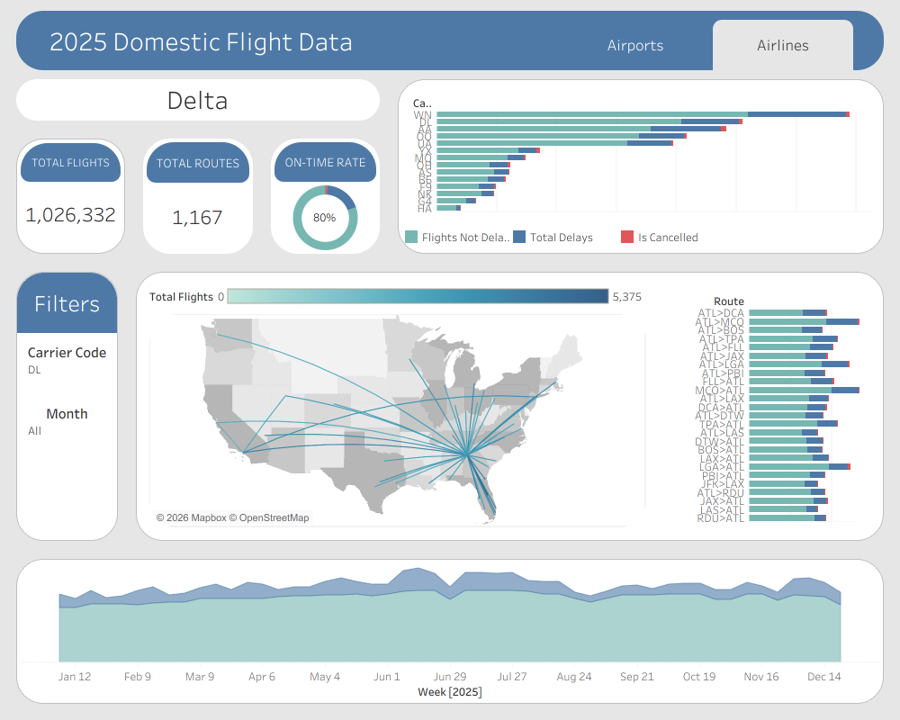

The page's visual inventory and layout, read from the dashboard file:
{"tool":"tableau","page":{"name":"Airline/Routes","canvas":[1000,800],"ordinal":0},"visuals":[{"type":"text","box":[18,12,606,66]},{"type":"dashboard-object","box":[624,12,164,66]},{"type":"dashboard-object","box":[788,12,164,66]},{"type":"worksheet","title":"Airline Code","mark":"Automatic","box":[8,78,424,66]},{"type":"worksheet","title":"Airline Reliability","mark":"Automatic","rows":["carrier_code"],"box":[443,89,538,160]},{"type":"text","box":[159.3,154,121.3,49]},{"type":"text","box":[300.7,154,121.3,48]},{"type":"text","box":[19,155,119.3,47]},{"type":"worksheet","title":"Total Flights Airline","mark":"Automatic","box":[19,202,119.3,79]},{"type":"worksheet","title":"Airline Gauge","mark":"Pie","cols":["Calculation_1108326014488583","Calculation_1108326014496777"],"box":[300.7,202,121.3,80]},{"type":"worksheet","title":"Total Routes Airline","mark":"Automatic","box":[159.3,203,121.3,79]},{"type":"legend","title":"Top Routes","param":"[federated.1rw0wj514wbz2k1dyeug803rc4i3].[:Measure Names]","box":[443,249,538,32]},{"type":"text","box":[19,303,111,67]},{"type":"worksheet","title":"Top Routes","mark":"Bar","rows":["Calculation_1108324908216320"],"box":[732,303,249,297]},{"type":"legend","title":"Route Map","param":"[federated.1rw0wj514wbz2k1dyeug803rc4i3].[usr:Calculation_1562139826475012:qk]","box":[162,313,560,32]},{"type":"worksheet","title":"Route Map","mark":"Automatic","box":[162,345,560,245]},{"type":"filter","title":"Route Map","param":"[federated.1rw0wj514wbz2k1dyeug803rc4i3].[none:carrier_code:nk]","box":[19,370,111,68]},{"type":"filter","title":"Route Map","param":"[federated.1rw0wj514wbz2k1dyeug803rc4i3].[mn:fl_date:ok]","box":[19,438,111,68]},{"type":"worksheet","title":"Total Flights/Delays","mark":"Area","cols":["fl_date"],"box":[19,622,962,159]}]}

Visuals, with their boxes in screenshot pixels (x1, y1, x2, y2), scaled from the page's 1000x800 canvas onto the 900x720 screenshot:
text: box(16, 11, 562, 70)
dashboard-object: box(562, 11, 709, 70)
dashboard-object: box(709, 11, 857, 70)
"Airline Code" worksheet: box(7, 70, 389, 130)
"Airline Reliability" worksheet: box(399, 80, 883, 224)
text: box(143, 139, 253, 183)
text: box(271, 139, 380, 182)
text: box(17, 140, 124, 182)
"Total Flights Airline" worksheet: box(17, 182, 124, 253)
"Airline Gauge" worksheet (Pie marks): box(271, 182, 380, 254)
"Total Routes Airline" worksheet: box(143, 183, 253, 254)
"Top Routes" legend: box(399, 224, 883, 253)
text: box(17, 273, 117, 333)
"Top Routes" worksheet (Bar marks): box(659, 273, 883, 540)
"Route Map" legend: box(146, 282, 650, 310)
"Route Map" worksheet: box(146, 310, 650, 531)
"Route Map" filter: box(17, 333, 117, 394)
"Route Map" filter: box(17, 394, 117, 455)
"Total Flights/Delays" worksheet (Area marks): box(17, 560, 883, 703)
